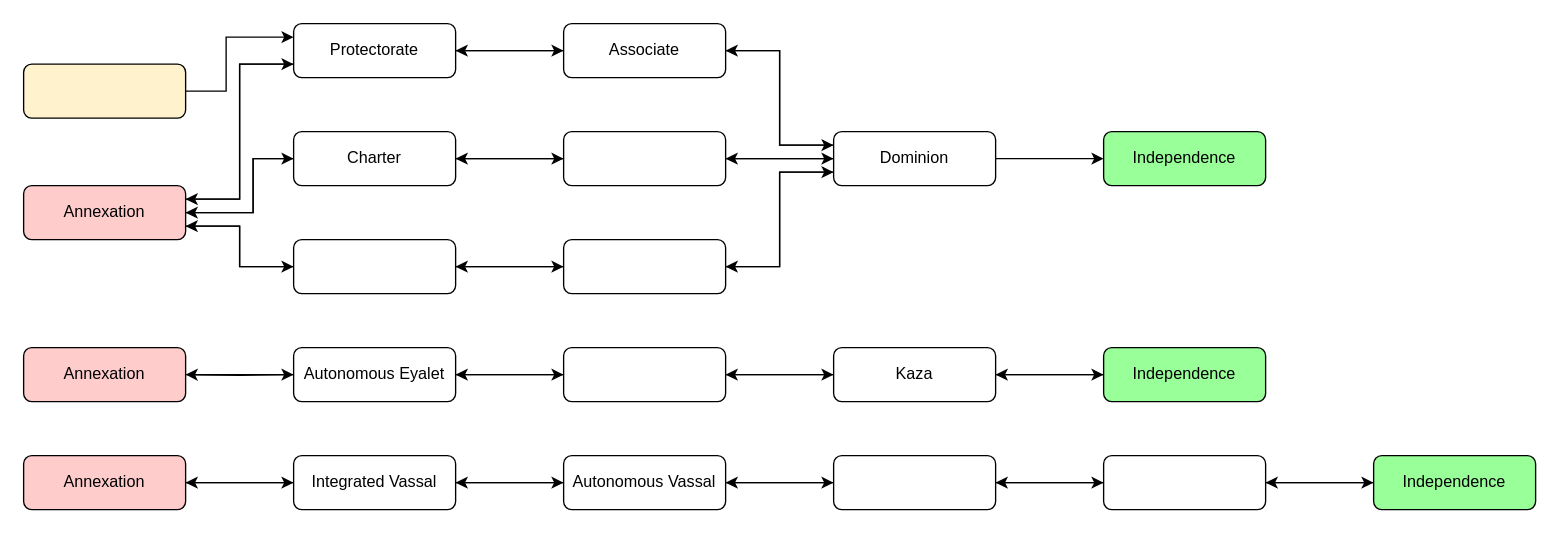
Some shapes in this 1559 by 533 pixel diagram are drawn without their labels. The shapes that lost their labels are listed below. From the top down, each one's box as (x1, y1, x2, y2) in pixels, then its label:
(22, 63, 186, 118): Guarantee
(562, 130, 726, 186): Company
(292, 238, 456, 294): Colony
(562, 238, 726, 294): Crown Colony
(562, 346, 726, 402): Autonomous Vilayet
(832, 454, 996, 510): Regional Authority
(1102, 454, 1266, 510): Tributary
